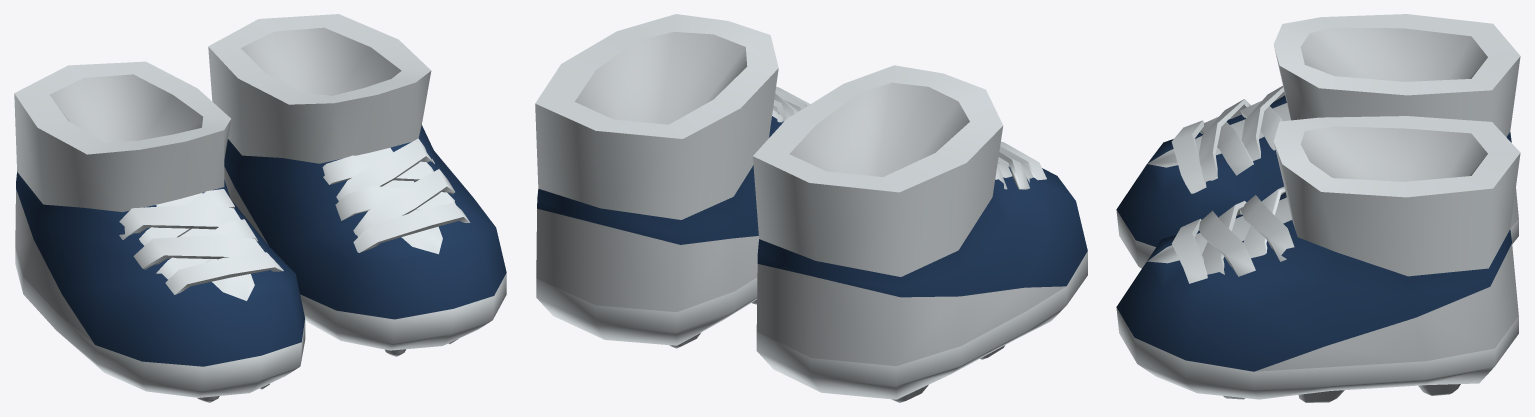
File: Shoes_43.fbx
The picture shows the model from 3 angles, left to right: view 1: azimuth 30°, elevation 25°; view 2: azimuth 150°, elevation 25°; view 3: azimuth 270°, elevation 25°; orthographic projection. The views are drawn at different scales.
Visible parts, largest first — view 1: Shoes_43; view 2: Shoes_43; view 3: Shoes_43.
Part boxes in pixels (box(x1,y1,x2,y2)): Shoes_43: box(14, 14, 506, 402); Shoes_43: box(535, 14, 1087, 402); Shoes_43: box(1116, 14, 1520, 402).
Size of the model in its own units: 41.77 by 22.26 by 35.52.
